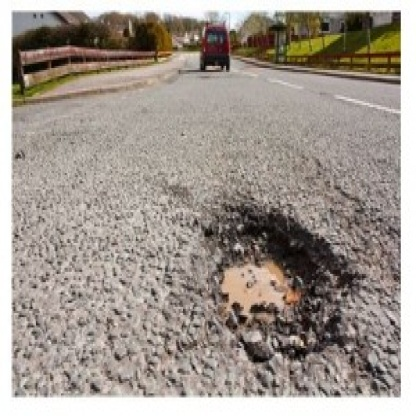pothole: (180, 203, 371, 374)
